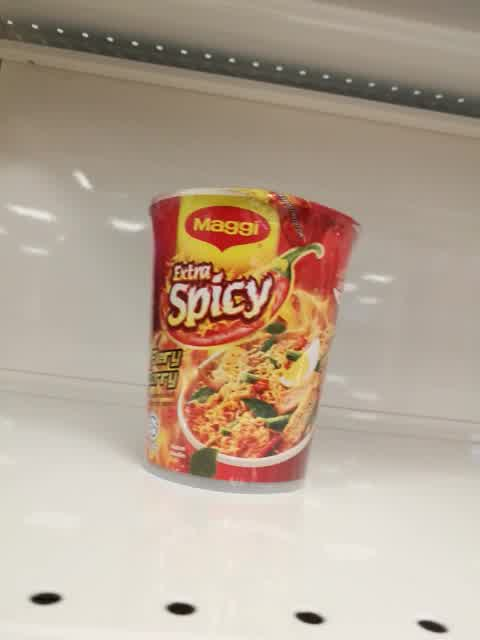maggi: (137, 184, 363, 497)
